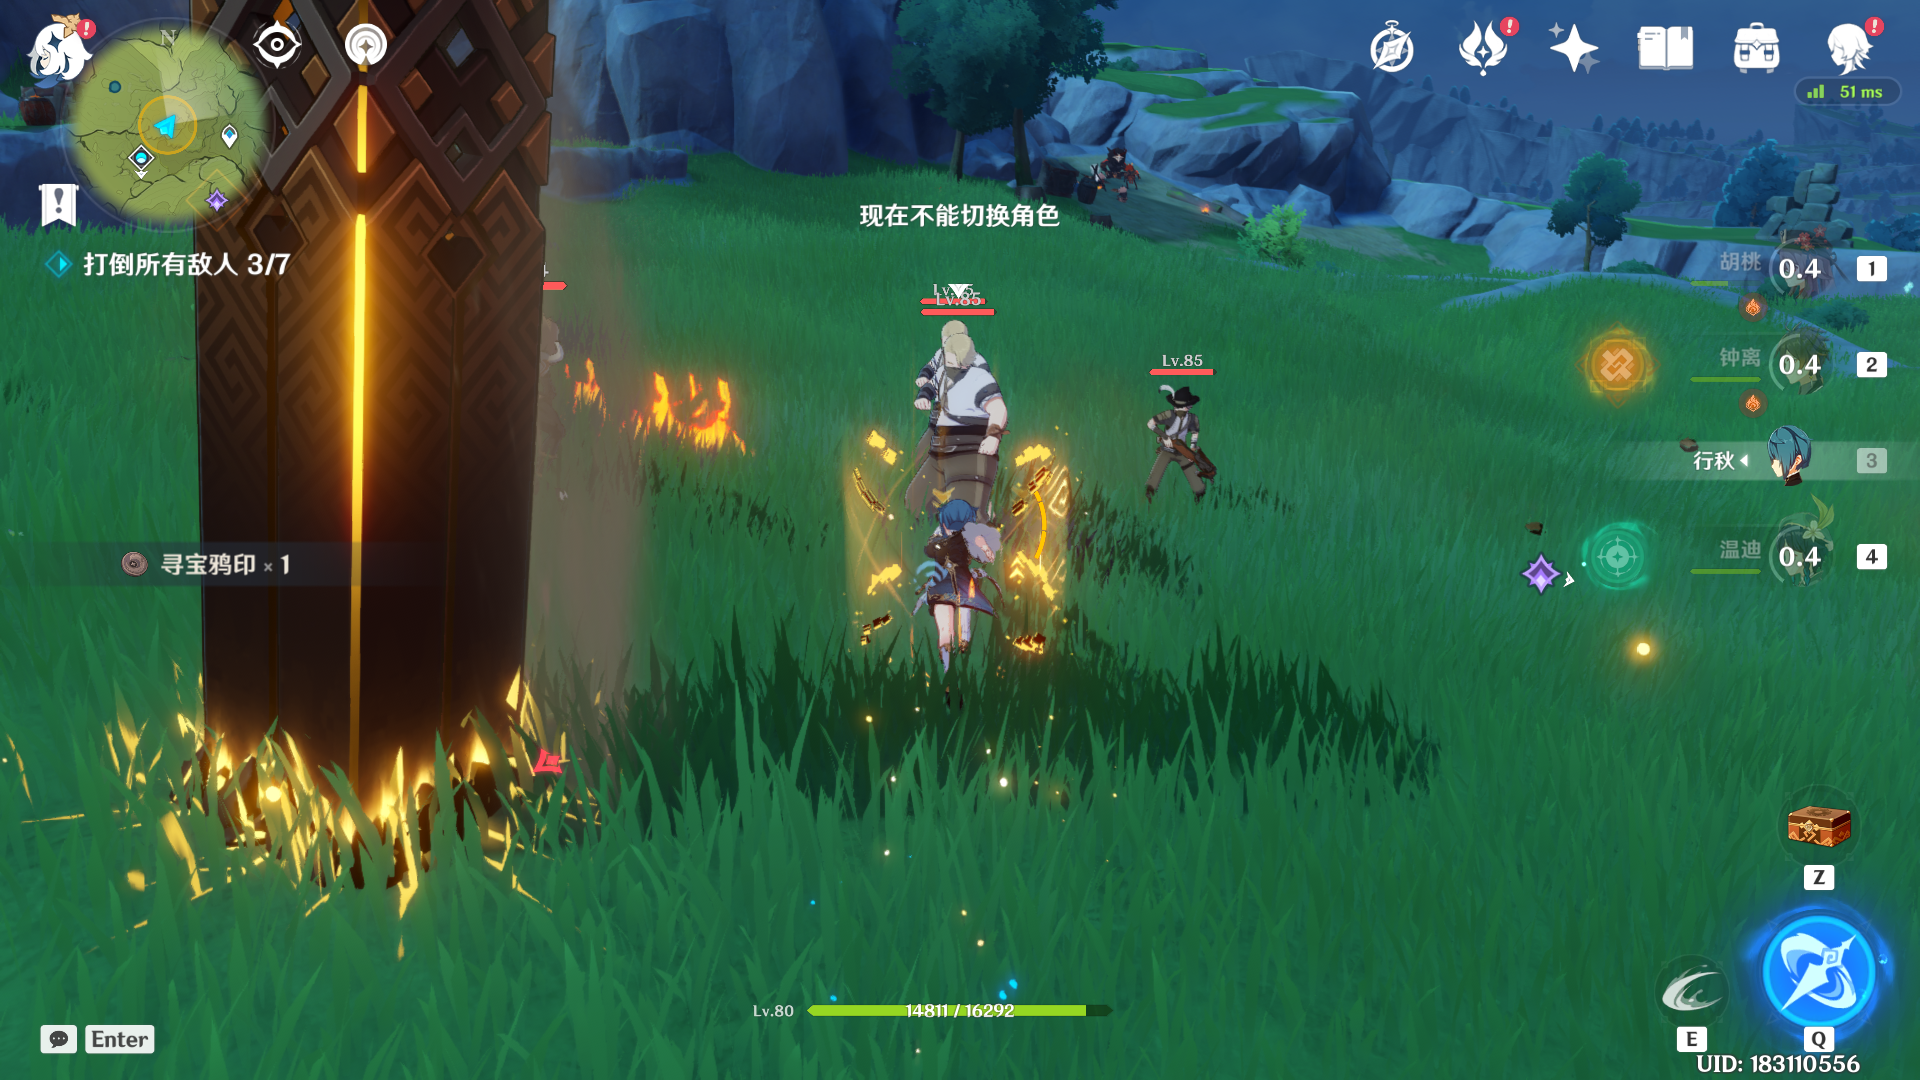character: (872, 458, 1038, 700)
robber: (882, 331, 1058, 549), (1126, 380, 1233, 527)
